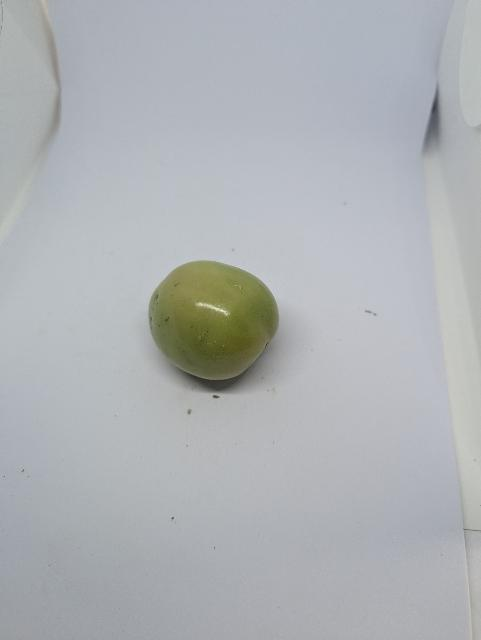green: (145, 258, 283, 382)
